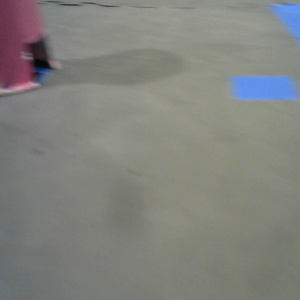middle: (1, 1, 60, 94)
